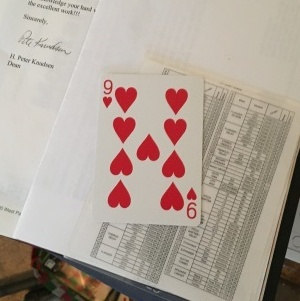card: (97, 75, 202, 226)
